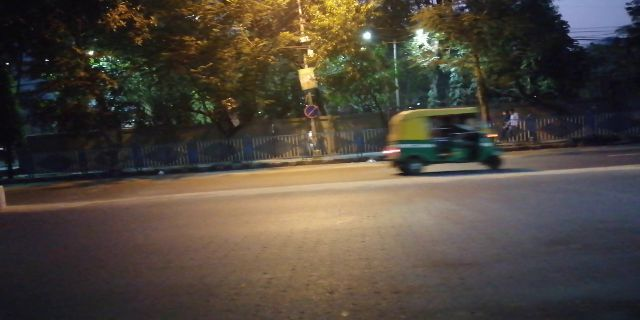Autorickshaw: (380, 109, 504, 175)
